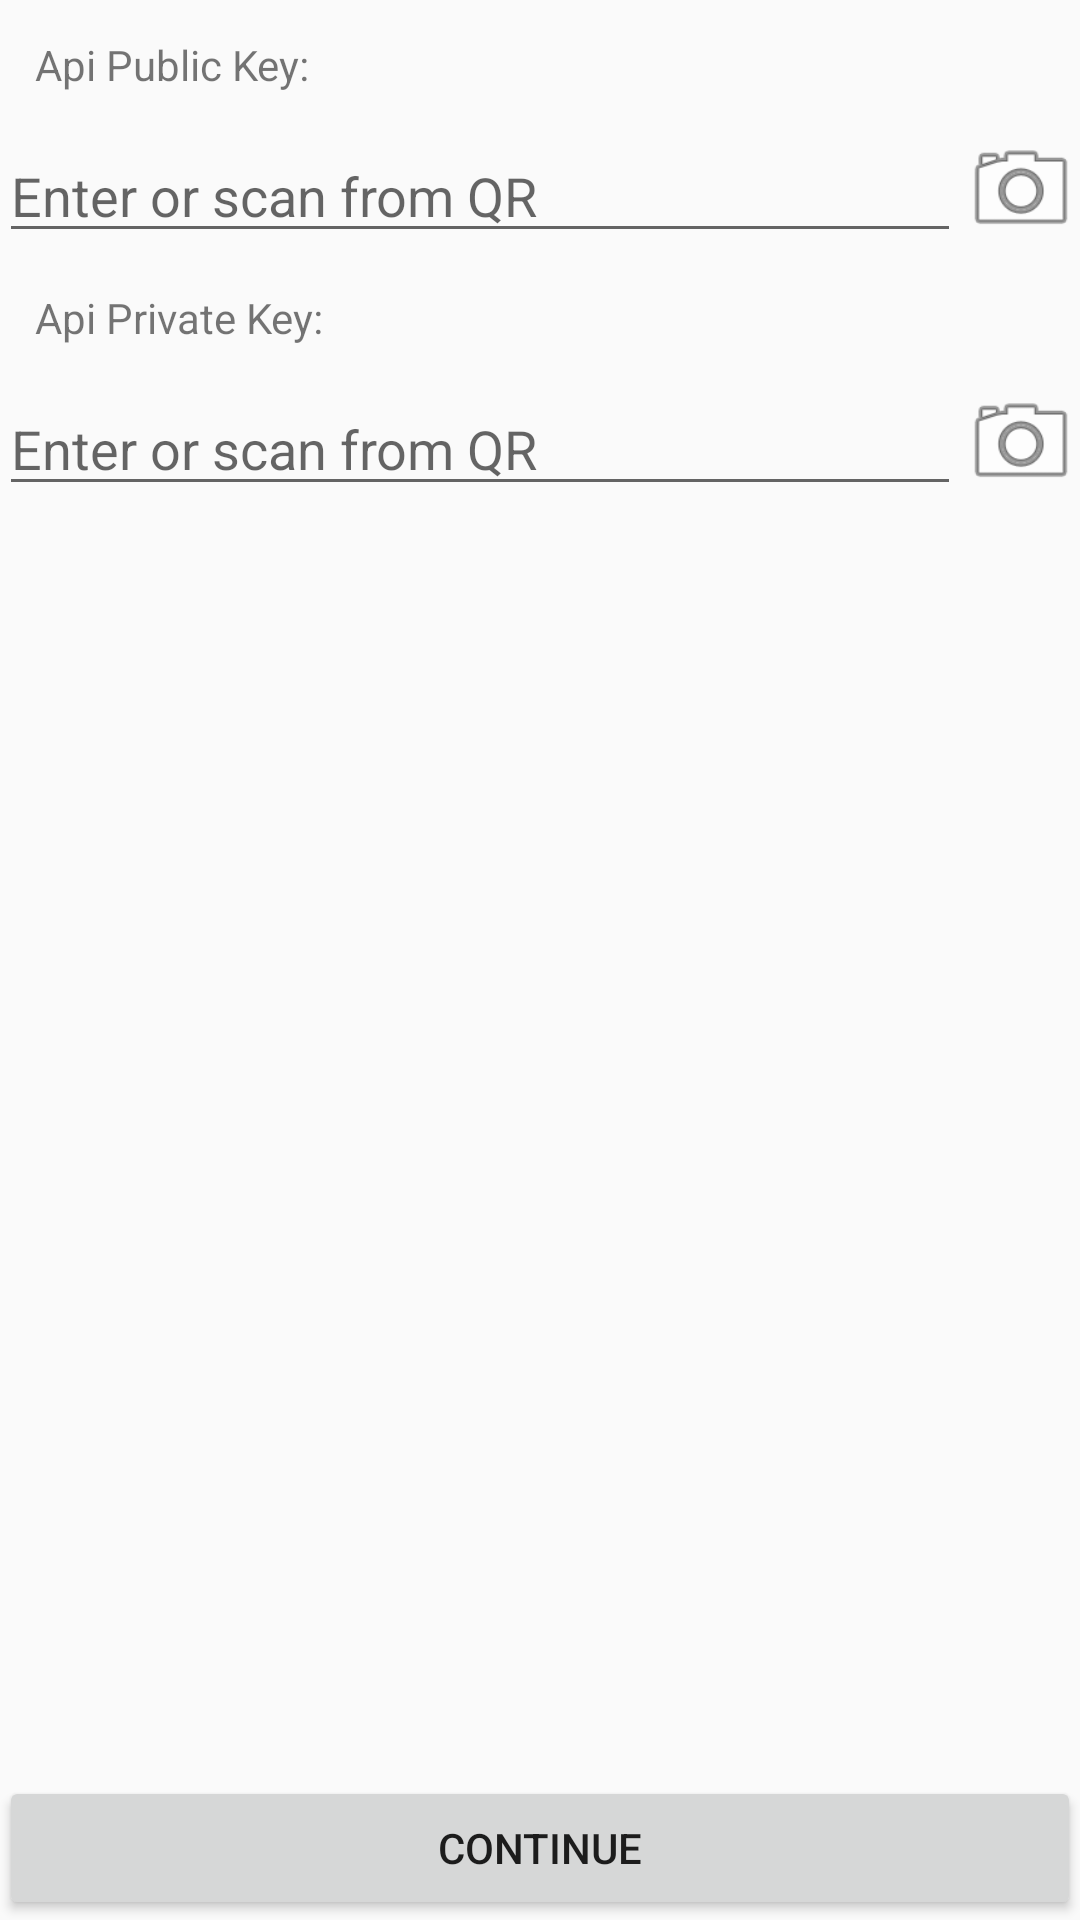

Named icons in this screenshot (1080x1920) and their bounding boxes, (x1, y1, x2, y2):
camera: (975, 150, 1067, 224), (975, 403, 1067, 477)
